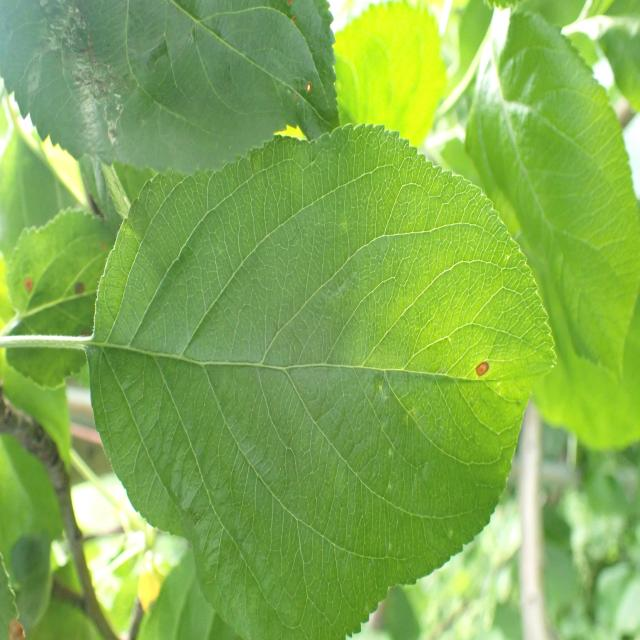Black Rot: (438, 322, 508, 414), (2, 587, 28, 640)
